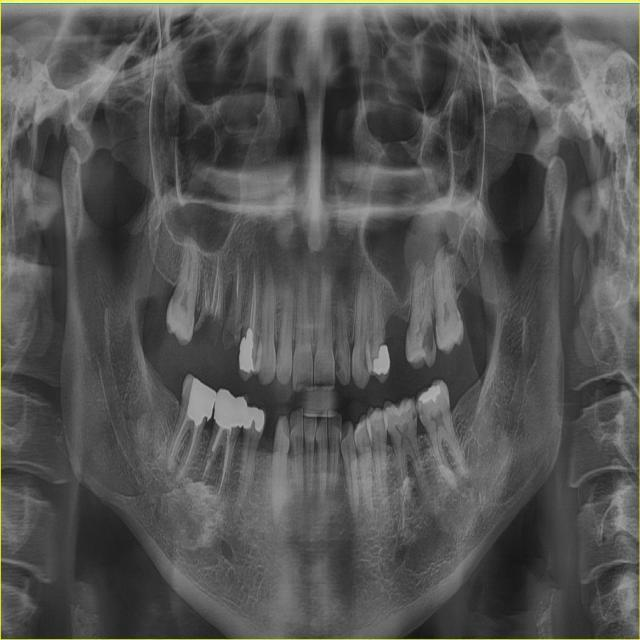71: (209, 426, 224, 453)
74: (166, 415, 191, 462), (179, 424, 200, 477), (218, 430, 232, 496), (209, 257, 220, 312), (249, 266, 257, 336), (215, 275, 221, 318), (235, 265, 240, 312), (201, 457, 211, 480), (204, 280, 207, 310)
NucleOSS Implant: (208, 389, 252, 436), (184, 377, 218, 427), (238, 325, 255, 373), (417, 382, 445, 408), (242, 405, 266, 432), (374, 343, 389, 376)
Sterngold Implant: (193, 311, 228, 345), (417, 320, 440, 364), (220, 314, 242, 352), (169, 279, 187, 304), (360, 344, 371, 374), (335, 348, 343, 374), (454, 311, 463, 326), (416, 406, 424, 415), (412, 409, 417, 418)
